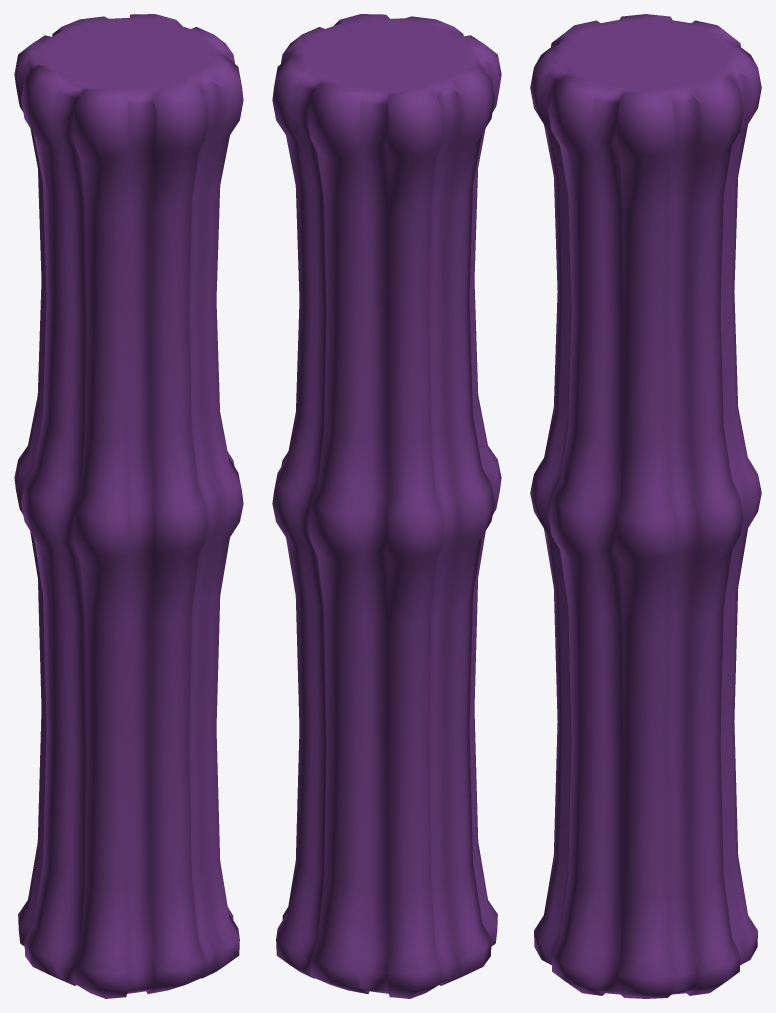
Rendered from Pillar_lowpoly.fbx.
3 views of the same model, side by side, from view 1: azimuth 30°, elevation 25°; view 2: azimuth 150°, elevation 25°; view 3: azimuth 270°, elevation 25° (orthographic).
Visible parts, largest first — view 1: Pillar; view 2: Pillar; view 3: Pillar.
Boxes of the visible parts, <box> form: Pillar: <box>14,14,243,998</box>; Pillar: <box>272,14,501,998</box>; Pillar: <box>530,14,761,998</box>.
Size of the model in its own units: 104 by 452 by 104.
